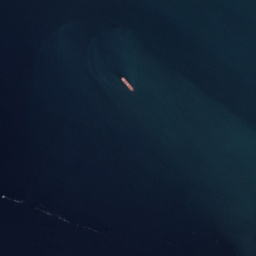Marine Debris: (57, 216, 68, 223), (13, 199, 24, 204), (42, 211, 52, 216), (0, 195, 7, 199)
